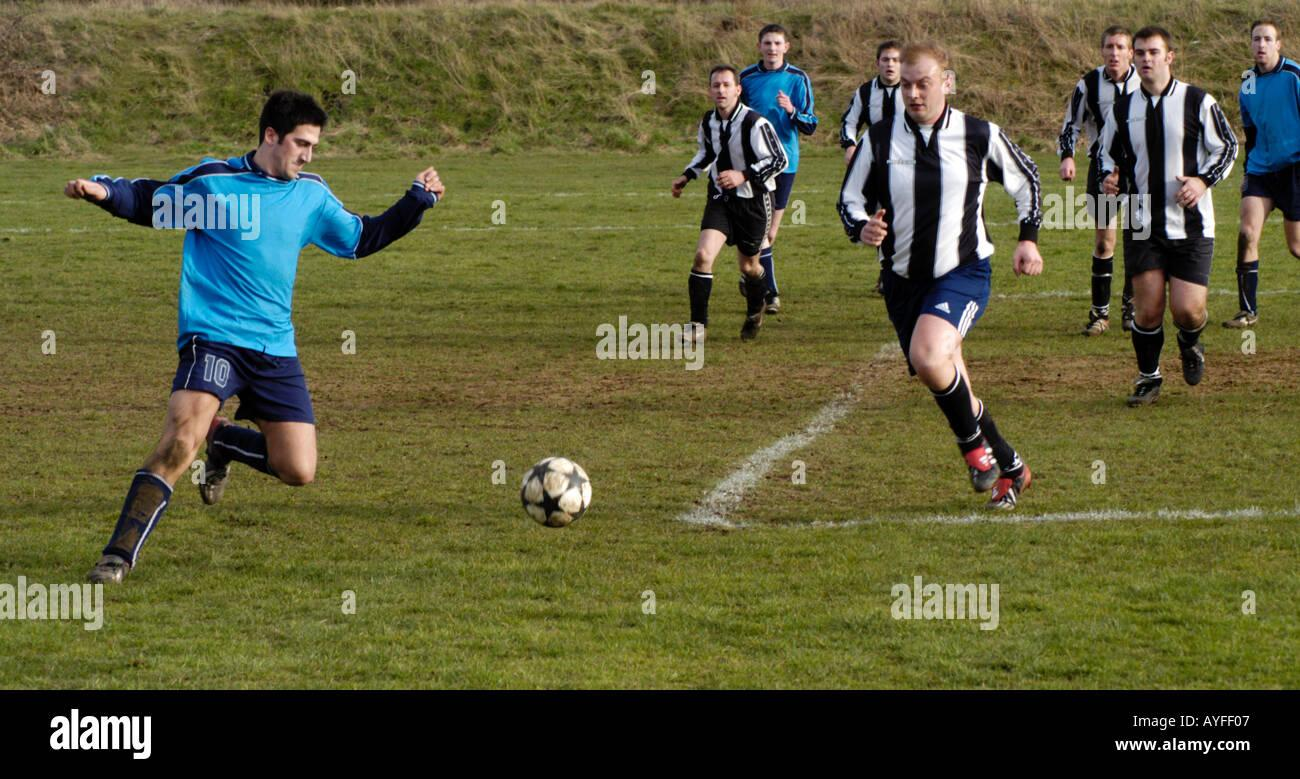ballon_football: (519, 459, 591, 528)
